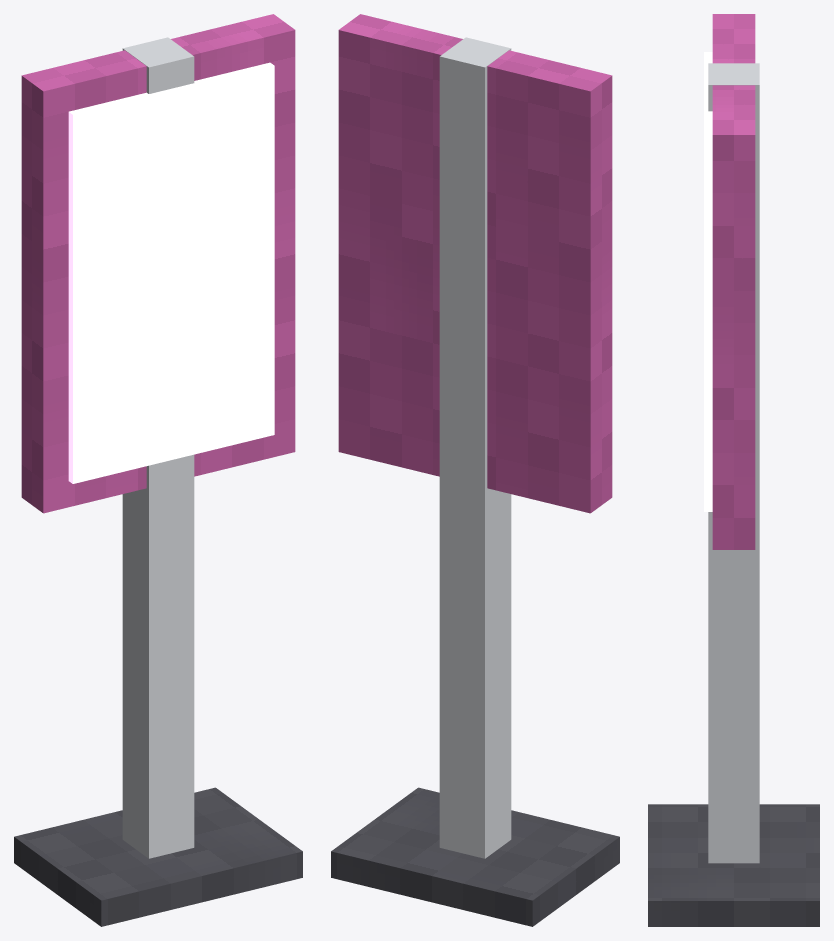
File: retro-arcade-and-mall-1989-neon-totem-sign-27eaf6a0__15559.glb
3 views of the same model, side by side, from view 1: azimuth 30°, elevation 25°; view 2: azimuth 150°, elevation 25°; view 3: azimuth 270°, elevation 25° (orthographic).
Parts seen in each view (by area): view 1: neon-totem-sign; view 2: neon-totem-sign; view 3: neon-totem-sign.
Boxes of the visible parts, x1,y1,x2,y2 form: neon-totem-sign: (14, 14, 302, 926); neon-totem-sign: (331, 14, 619, 926); neon-totem-sign: (648, 14, 819, 926).
Size of the model in its own units: 0.9999 by 3.1 by 0.6.
4 materials, 2 textured.
